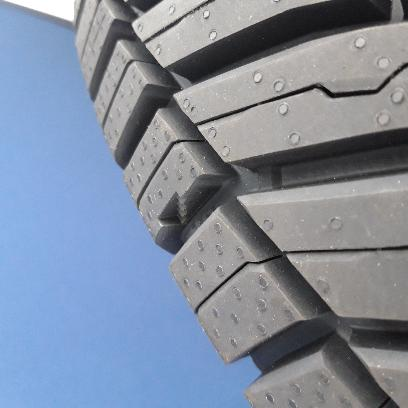temoin:100: (157, 190, 217, 228)
